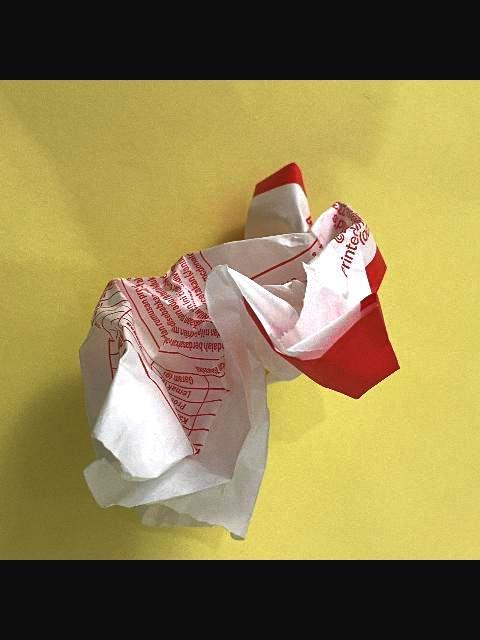paperbag: (76, 159, 404, 543)
